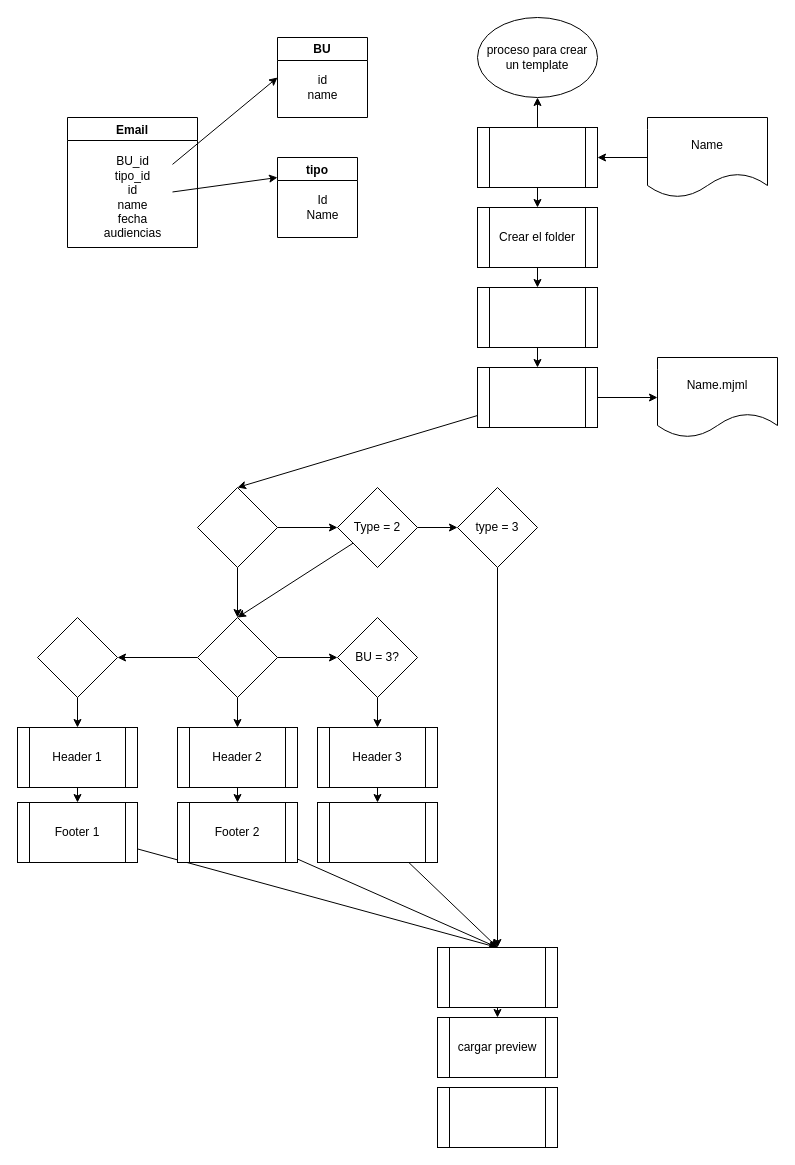
The diagram is 795 pixels wide and 1165 high, and some of its shapes have lost their labels. The centre of each missing label's shape, as x and y in pixels:
"BU = 1?" belongs at [77,657].
"BU = 2?" belongs at [237,657].
"Crear archivo mjml" belongs at [537,397].
"Crear el nombre" belongs at [537,157].
"Crear folder Optimized" belongs at [537,317].
"Footer 3" belongs at [377,832].
"ingresar content" belongs at [497,977].
"Type = 1" belongs at [237,527].
